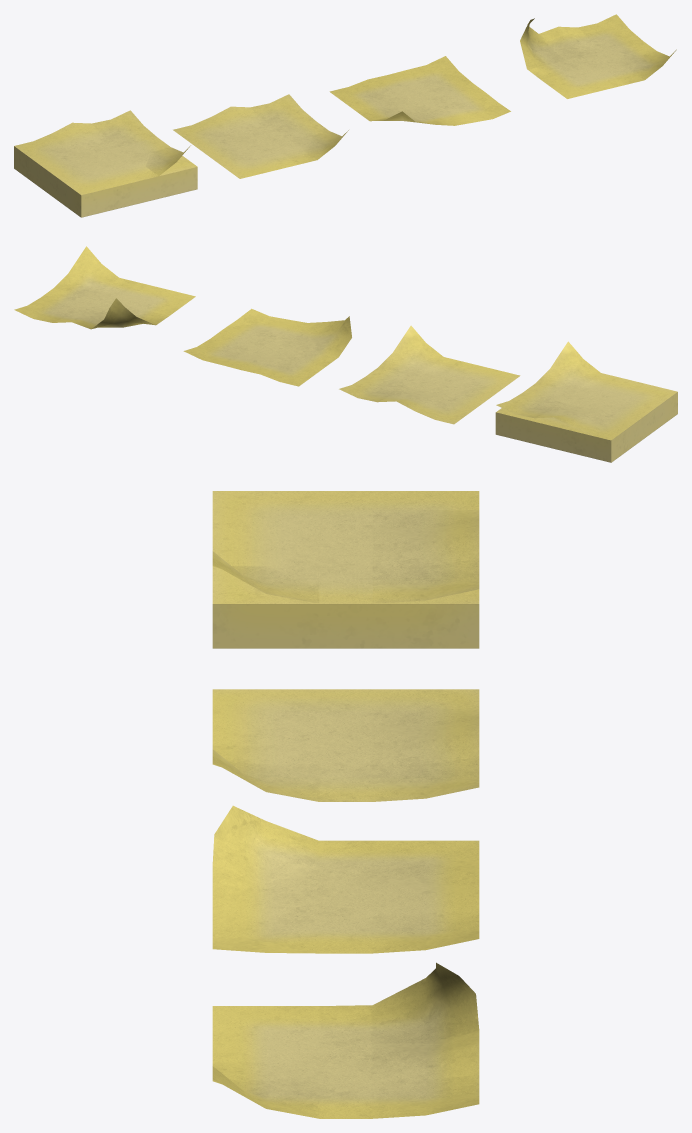
Rendered from notes.glb.
The picture shows the model from 3 angles, top to bottom: view 1: azimuth 30°, elevation 25°; view 2: azimuth 150°, elevation 25°; view 3: azimuth 270°, elevation 25°; orthographic projection. The views are drawn at different scales.
Visible parts, largest first — view 1: SM_post_it_notes_2, SM_post_it_notes.003_5, SM_post_it_notes.001_3, SM_post_it_notes.002_4, SM_post_it_notes.004_6; view 2: SM_post_it_notes.001_3, SM_post_it_notes_2, SM_post_it_notes.002_4, SM_post_it_notes.003_5, SM_post_it_notes.004_6; view 3: SM_post_it_notes.002_4, SM_post_it_notes.001_3, SM_post_it_notes.003_5, SM_post_it_notes_2, SM_post_it_notes.004_6.
Boxes of the visible parts, x1,y1,x2,y2 form: SM_post_it_notes_2: (173,94,348,178); SM_post_it_notes.003_5: (520,14,676,98); SM_post_it_notes.001_3: (14,137,197,217); SM_post_it_notes.002_4: (329,56,510,125); SM_post_it_notes.004_6: (14,110,190,194); SM_post_it_notes.001_3: (495,373,677,462); SM_post_it_notes_2: (339,325,520,424); SM_post_it_notes.002_4: (183,308,351,386); SM_post_it_notes.003_5: (14,246,195,329); SM_post_it_notes.004_6: (496,341,663,439); SM_post_it_notes.002_4: (212,805,479,953); SM_post_it_notes.001_3: (212,491,479,648); SM_post_it_notes.003_5: (212,962,479,1118); SM_post_it_notes_2: (212,689,479,801); SM_post_it_notes.004_6: (212,491,479,603).
Bounding box in the file's own units: 0.3931 × 0.03 × 0.076.
Materials: 1 (1 with a texture image).
